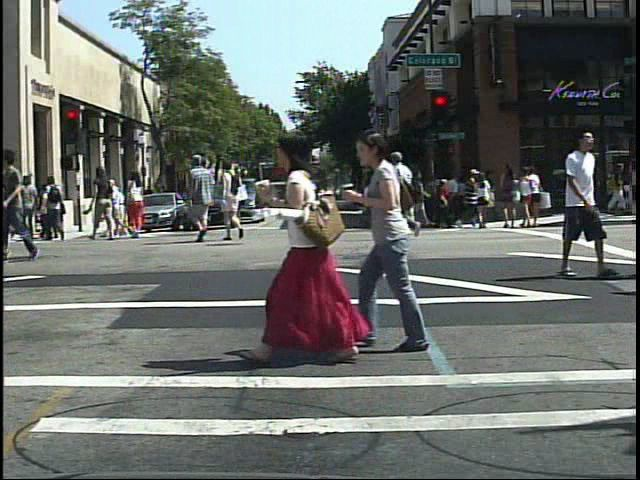person: (246, 129, 357, 369), (359, 123, 446, 358), (542, 124, 617, 281), (3, 143, 40, 263), (387, 146, 425, 245), (183, 151, 221, 245), (216, 155, 245, 246), (90, 165, 121, 244), (16, 170, 43, 246), (123, 167, 149, 241), (42, 172, 65, 244), (473, 167, 495, 229), (461, 163, 481, 230)
